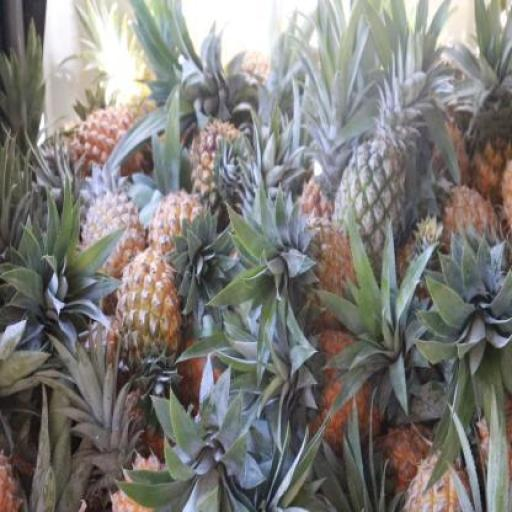Pineapple - v8 v1: (118, 252, 179, 378)
